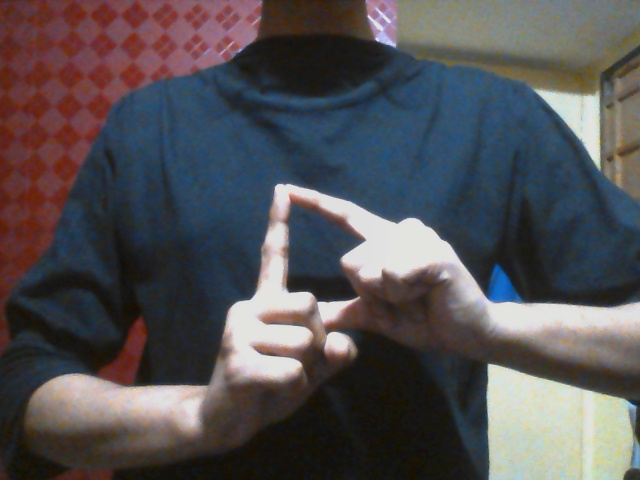D: (221, 181, 465, 435)
